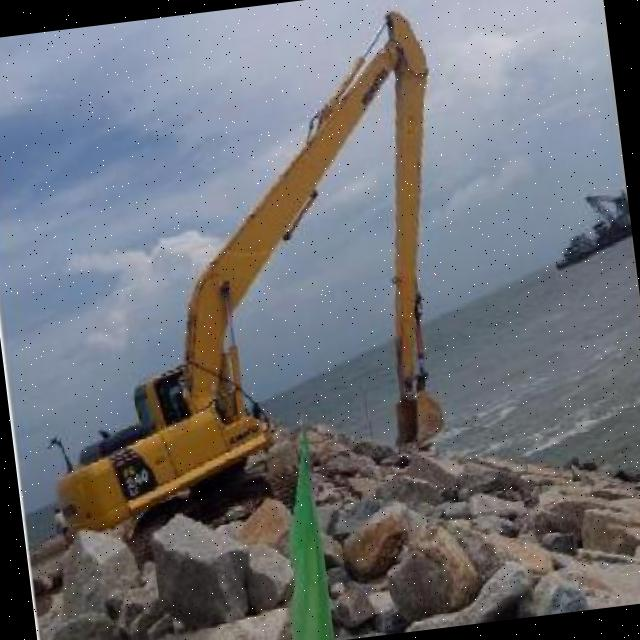Excavator: (0, 0, 480, 555)
